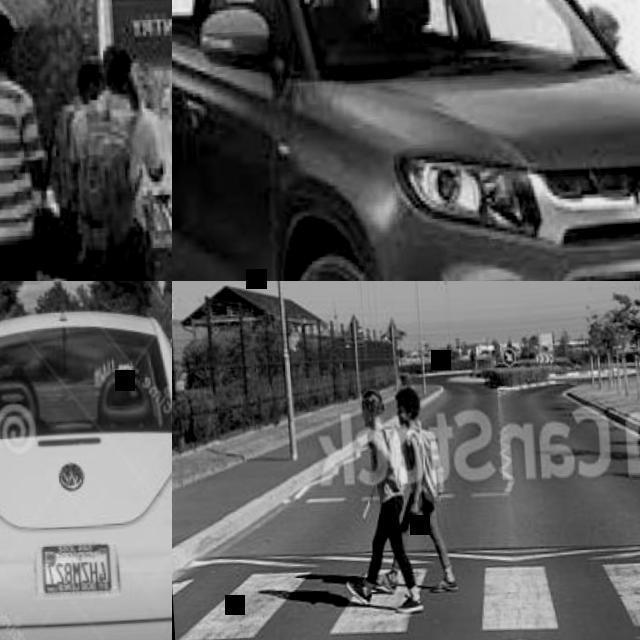car: (233, 0, 637, 270), (0, 295, 183, 639)
